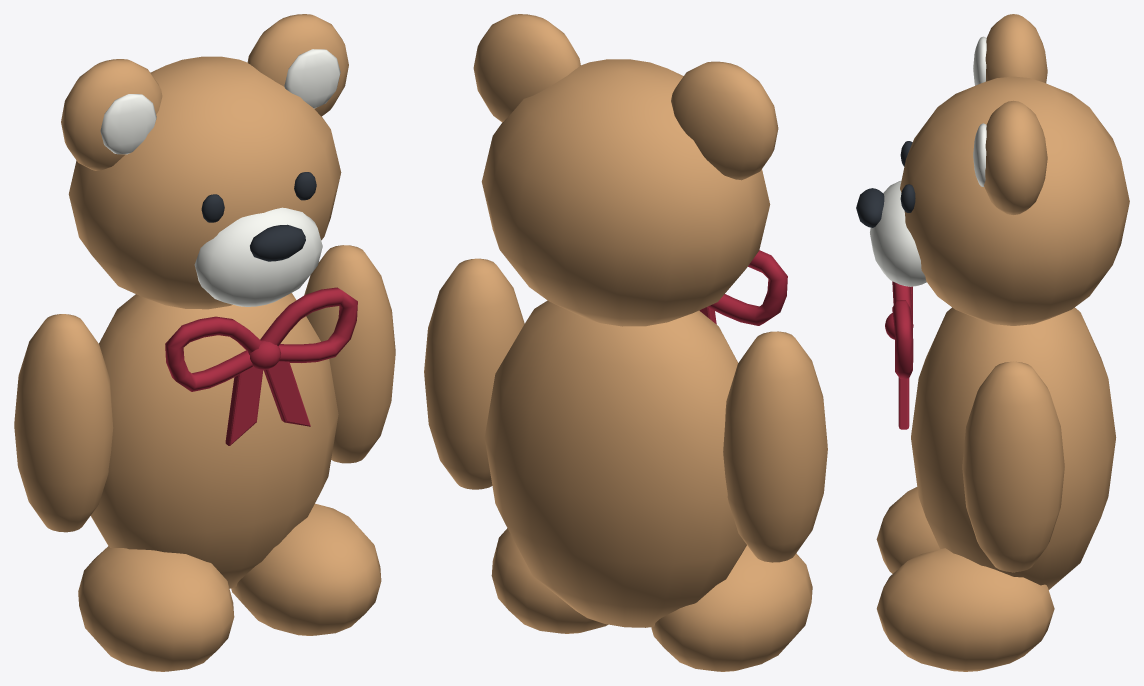
File: christmas-storybook-ribbon-teddy-c8cf72db__18755.glb
3 views of the same model, side by side, from view 1: azimuth 30°, elevation 25°; view 2: azimuth 150°, elevation 25°; view 3: azimuth 270°, elevation 25° (orthographic). The views are drawn at different scales.
Visible parts, largest first — view 1: biscuit, cream, berry, ink; view 2: biscuit, berry; view 3: biscuit, cream, berry, ink.
Part boxes in pixels (left/top/right/bottom): biscuit: left=14, top=14, right=395, bottom=671; cream: left=100, top=49, right=340, bottom=306; berry: left=165, top=287, right=357, bottom=445; ink: left=201, top=172, right=316, bottom=261; biscuit: left=424, top=14, right=827, bottom=671; berry: left=699, top=250, right=787, bottom=325; biscuit: left=876, top=14, right=1129, bottom=671; cream: left=870, top=36, right=986, bottom=286; berry: left=885, top=281, right=913, bottom=429; ink: left=856, top=141, right=915, bottom=227.
Bounding box in the file's own units: 0.6 × 0.915 × 0.4.
